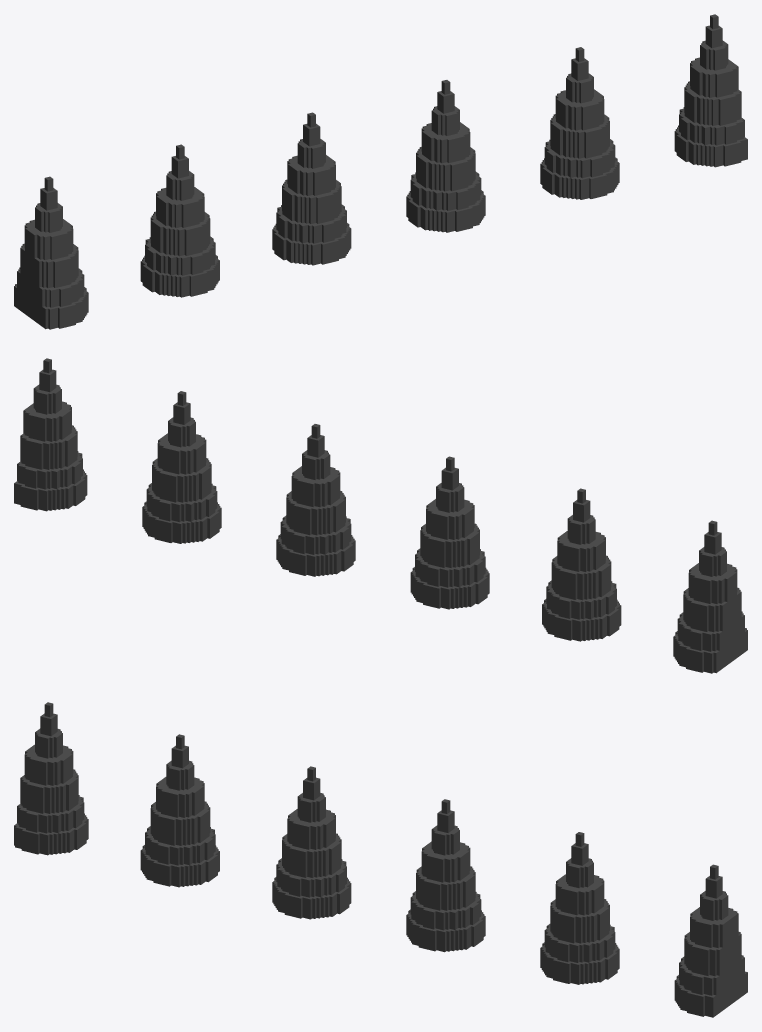
The model's file is O_S_EnemySpikes.obj.
3 views of the same model, one above another, from view 1: azimuth 30°, elevation 25°; view 2: azimuth 150°, elevation 25°; view 3: azimuth 330°, elevation 25° (orthographic).
Bounding box in the file's own units: 25.6 × 4.7 × 2.4.
1 material, 1 textured.
